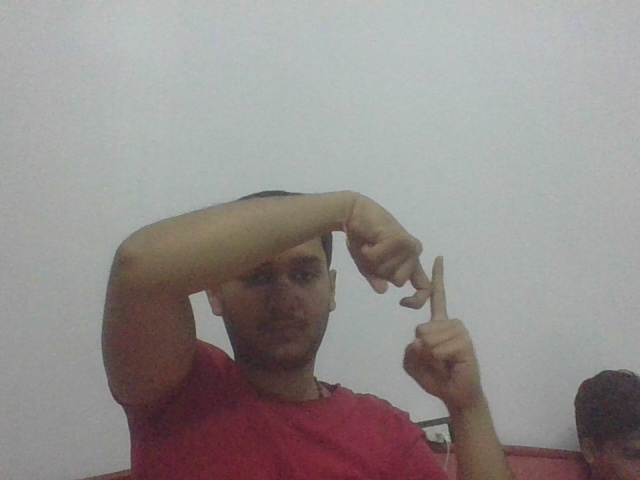K: (392, 247, 474, 337)
